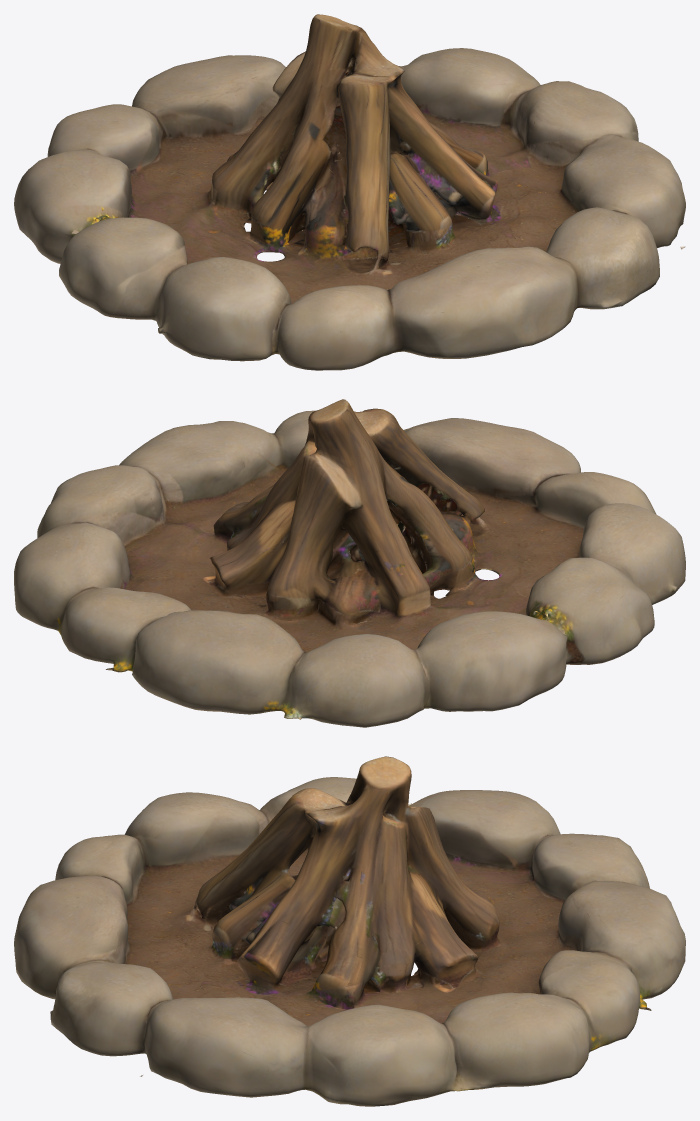
File: Camp Fire Model.fbx
3 views of the same model, one above another, from view 1: azimuth 30°, elevation 25°; view 2: azimuth 150°, elevation 25°; view 3: azimuth 270°, elevation 25° (orthographic). The views are drawn at different scales.
Visible parts, largest first — view 1: Mesh0; view 2: Mesh0; view 3: Mesh0.
Part boxes in pixels (box(x1,y1,x2,y2)): Mesh0: box(14, 14, 685, 370); Mesh0: box(14, 399, 685, 727); Mesh0: box(14, 756, 685, 1106).
Size of the model in its own units: 200 by 71.78 by 200.
Materials: 1 (1 with a texture image).
